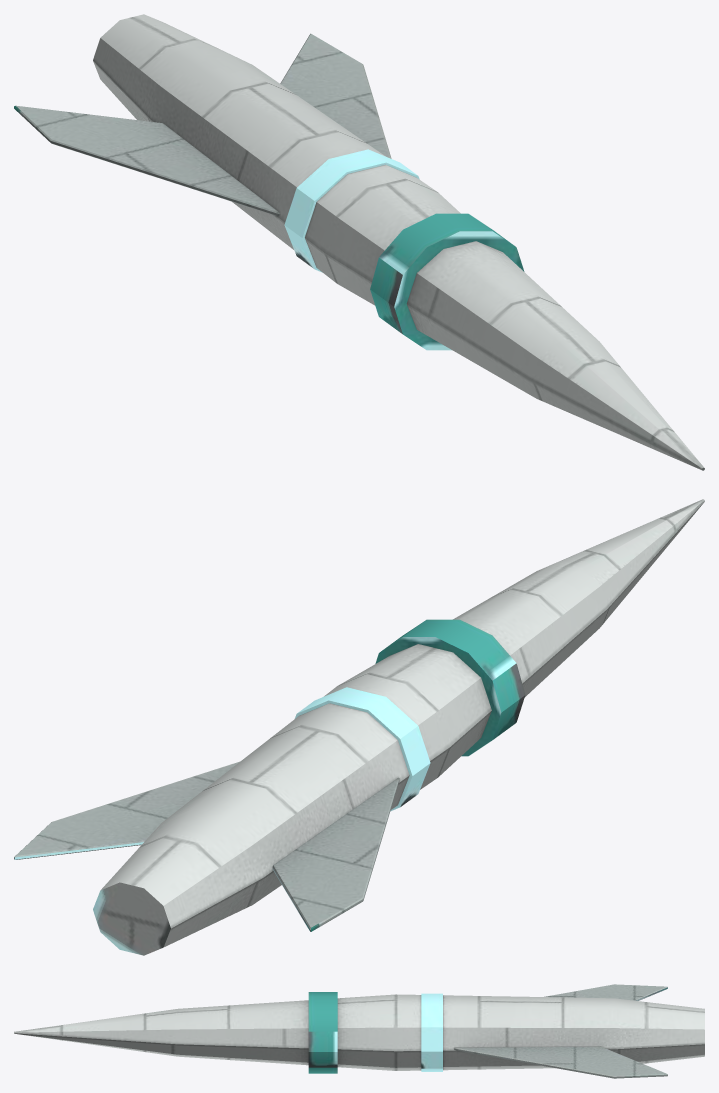
Rendered from ilk_craft.glb.
The picture shows the model from 3 angles, top to bottom: view 1: azimuth 30°, elevation 25°; view 2: azimuth 150°, elevation 25°; view 3: azimuth 270°, elevation 25°; orthographic projection. The views are drawn at different scales.
Visible parts, largest first — view 1: HULL, SYS_REACTOR; view 2: HULL, SYS_REACTOR; view 3: HULL, SYS_REACTOR.
Boxes of the visible parts, left/top/right/bottom form: HULL: left=14, top=14, right=704, bottom=470; SYS_REACTOR: left=284, top=149, right=419, bottom=272; HULL: left=14, top=499, right=704, bottom=955; SYS_REACTOR: left=294, top=687, right=430, bottom=811; HULL: left=14, top=984, right=704, bottom=1078; SYS_REACTOR: left=421, top=993, right=442, bottom=1071.
Bounding box in the file's own units: 1.58 × 0.5766 × 5.02.
1 material, 1 textured.
